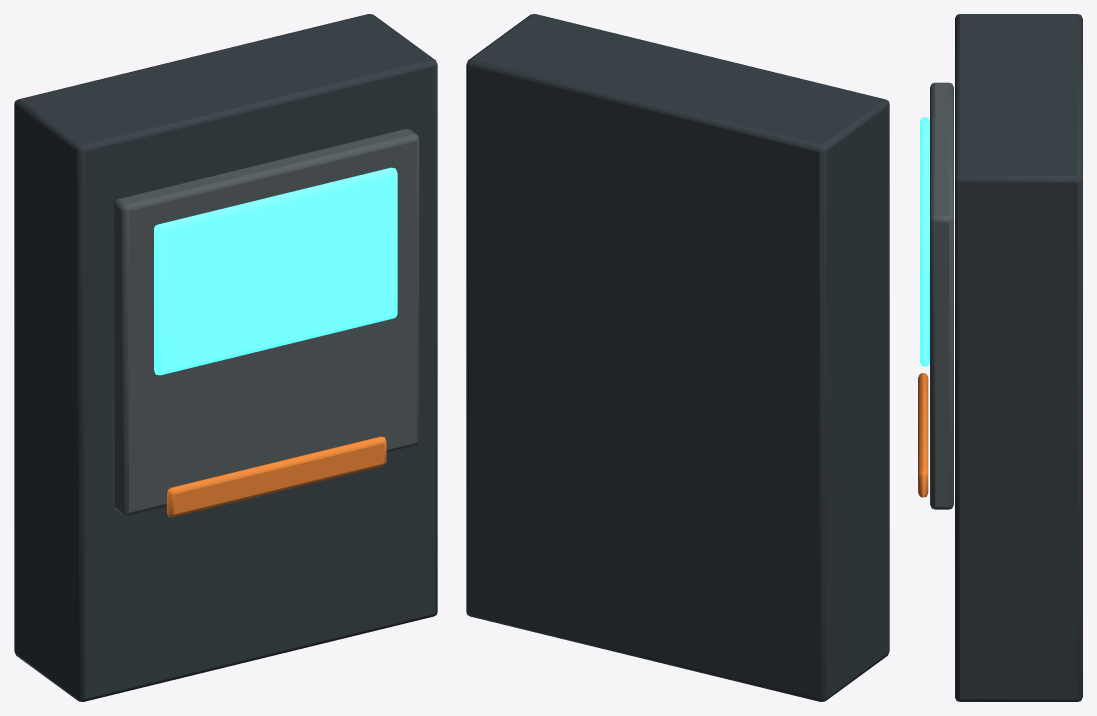
Rendered from nord01-access_terminal-lod2.glb.
The picture shows the model from 3 angles, left to right: view 1: azimuth 30°, elevation 25°; view 2: azimuth 150°, elevation 25°; view 3: azimuth 270°, elevation 25°; orthographic projection. The views are drawn at different scales.
Visible parts, largest first — view 1: static; view 2: static; view 3: static.
Boxes of the visible parts, bbox=[...] form: static: bbox=[14, 14, 437, 701]; static: bbox=[466, 14, 889, 701]; static: bbox=[918, 14, 1082, 701].
Bounding box in the file's own units: 0.23 × 0.34 × 0.0965.
